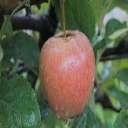apple: (39, 28, 97, 119)
